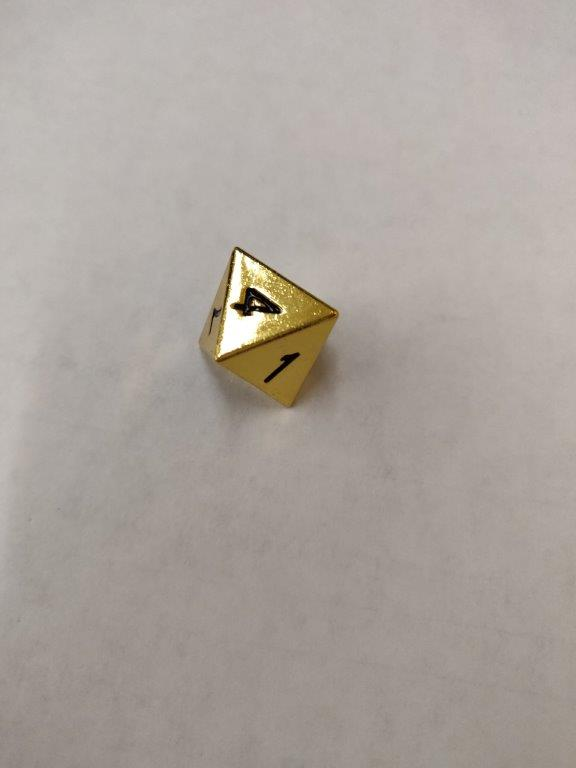d8-4: (197, 244, 341, 409)
